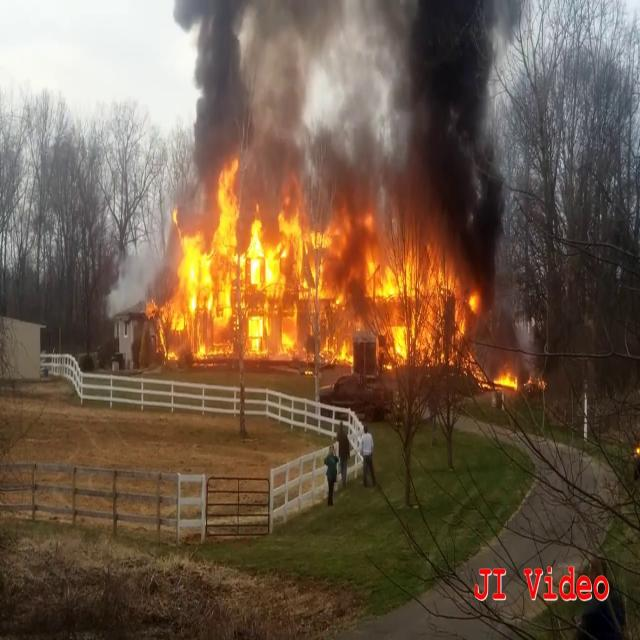Fire: (153, 167, 479, 372), (494, 363, 524, 390)
Smoke: (160, 0, 386, 224), (161, 0, 385, 205), (393, 1, 519, 272)
